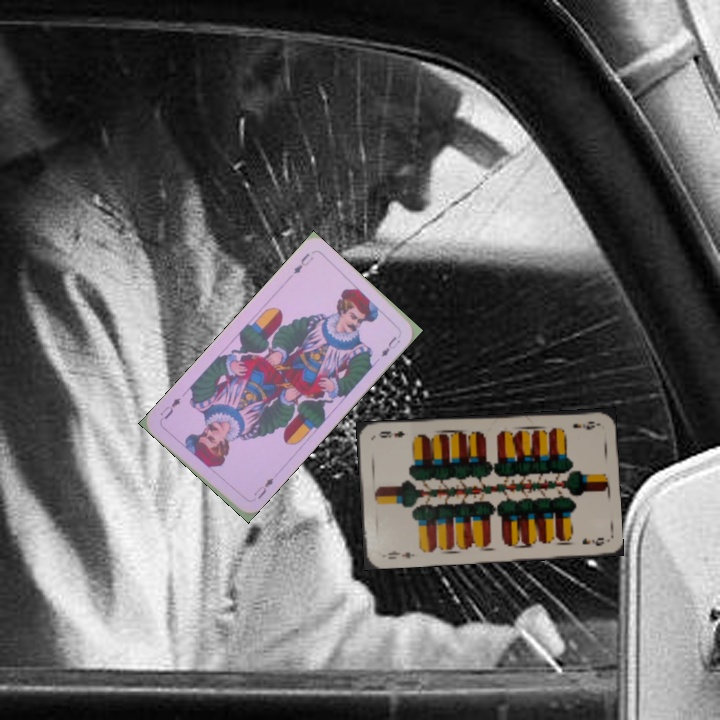E9: (384, 547, 417, 562), (569, 417, 600, 432)
EU: (289, 249, 316, 277), (250, 474, 276, 502)
